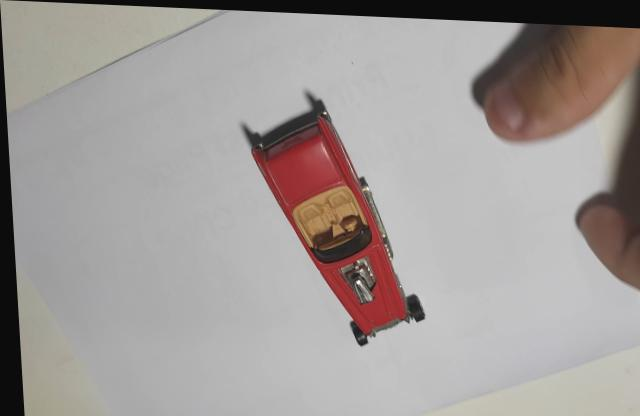03_V8: (238, 89, 422, 341)
